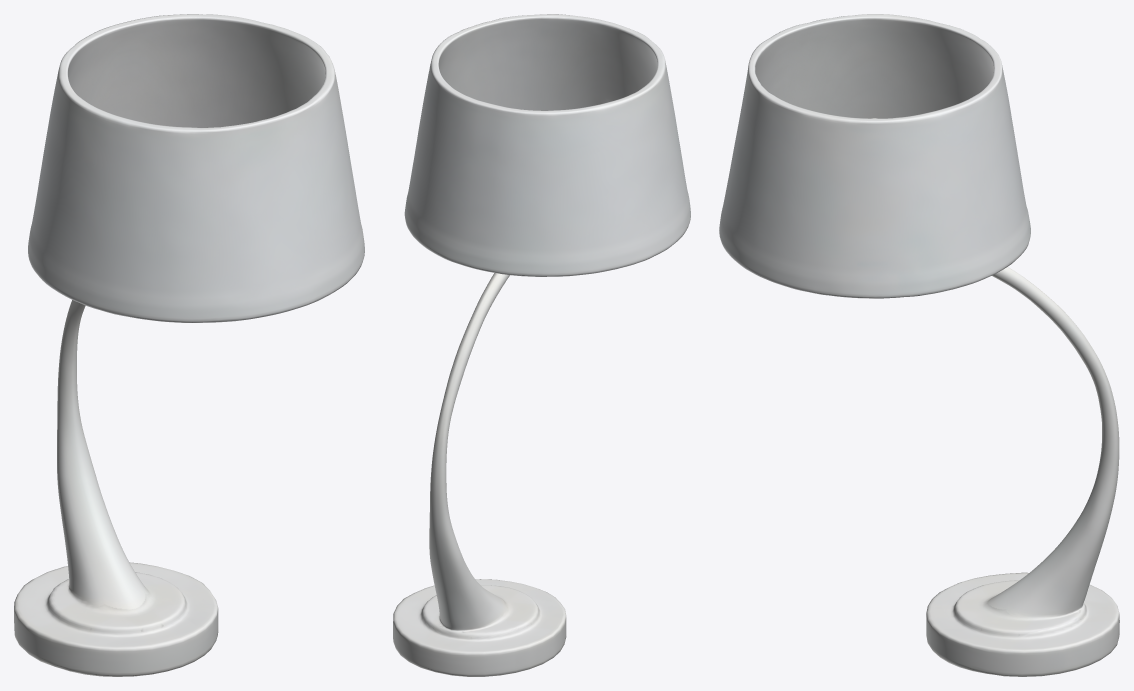
3 renders of one model, left to right at view 1: azimuth 30°, elevation 25°; view 2: azimuth 150°, elevation 25°; view 3: azimuth 270°, elevation 25°, orthographic. The views are drawn at different scales.
Visible parts, largest first — view 1: model; view 2: model; view 3: model.
Part boxes in pixels (x1=…): model: x1=14, y1=14, x2=364, y2=676; model: x1=393, y1=14, x2=690, y2=676; model: x1=719, y1=14, x2=1119, y2=676.
Bounding box in the file's own units: 0.9291 × 1.89 × 1.2.
Materials: 1 (1 with a texture image).
